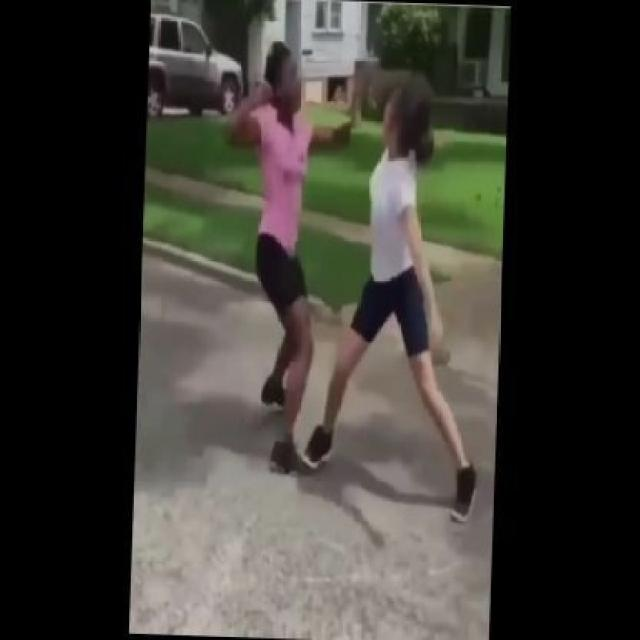fight: (208, 29, 484, 522)
